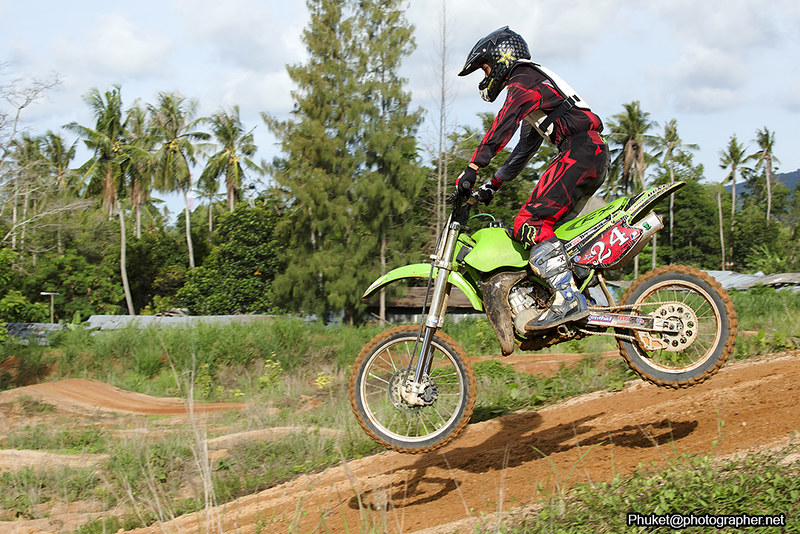helmet: (462, 32, 531, 92)
